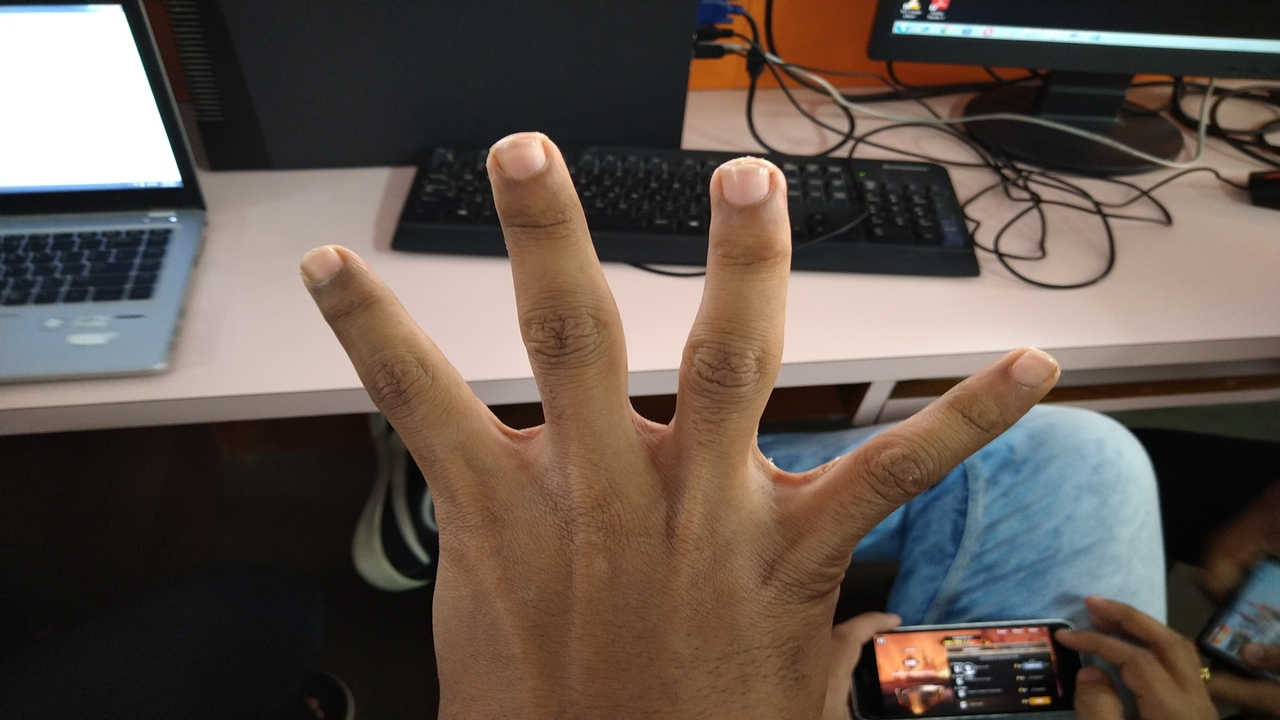fingertip: (706, 148, 792, 228), (480, 130, 564, 200), (990, 344, 1076, 400), (282, 240, 362, 300)
